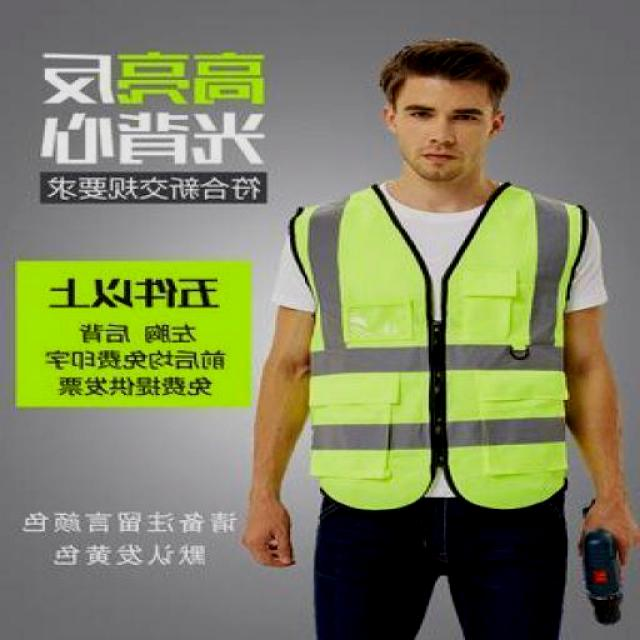face_nomask: (395, 93, 495, 187)
hand_noglove: (576, 485, 640, 571), (236, 491, 305, 570)
head_nohelmet: (379, 33, 512, 96)
person: (240, 27, 640, 640)
vest: (290, 172, 604, 514)
